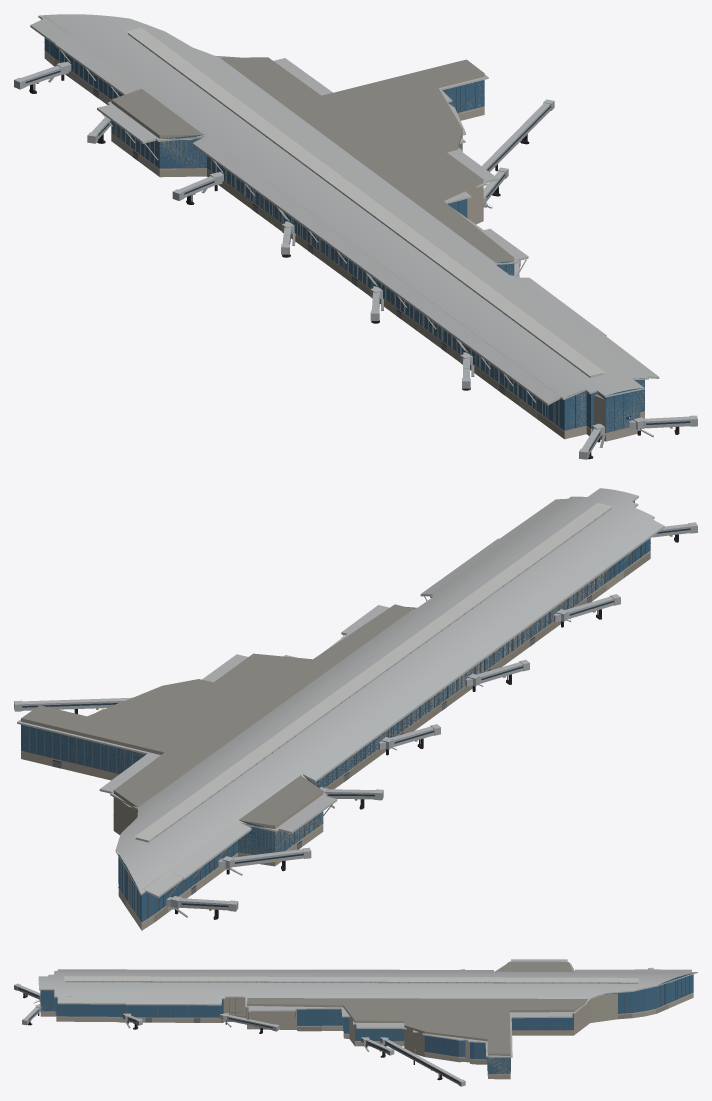
File: atl-concourse-f.glb
3 views of the same model, one above another, from view 1: azimuth 30°, elevation 25°; view 2: azimuth 150°, elevation 25°; view 3: azimuth 270°, elevation 25° (orthographic). The views are drawn at different scales.
Visible parts, largest first — view 1: lod0_bld_roof, lod1_lm_stone, lod2_lm_stone, lod0_lm_metal, lod1_bld_glass, lod2_bld_wall, lod0_bld_glass, lod1_bld_wall, lod0_bld_wall, lod0_lm_lit; view 2: lod0_bld_roof, lod1_lm_stone, lod2_lm_stone, lod0_lm_metal, lod0_bld_glass, lod2_bld_wall, lod1_bld_glass, lod0_bld_wall, lod1_bld_wall, lod0_lm_lit, lod0_lm_glass; view 3: lod0_bld_roof, lod1_lm_stone, lod2_lm_stone, lod0_lm_metal, lod0_bld_glass, lod2_bld_wall, lod1_bld_glass, lod0_bld_wall, lod0_lm_lit, lod1_bld_wall, lod0_lm_stone, lod0_lm_glass.
Boxes of the visible parts, box(x1,y1,x2,y2) form: lod0_bld_roof: box(40, 14, 646, 397); lod1_lm_stone: box(15, 14, 697, 459); lod2_lm_stone: box(45, 17, 604, 399); lod0_lm_metal: box(14, 16, 697, 459); lod1_bld_glass: box(111, 80, 644, 432); lod2_bld_wall: box(111, 73, 644, 441); lod0_bld_glass: box(44, 38, 644, 430); lod1_bld_wall: box(159, 169, 637, 441); lod0_bld_wall: box(44, 52, 644, 439); lod0_lm_lit: box(128, 33, 590, 377); lod0_bld_roof: box(18, 488, 653, 892); lod1_lm_stone: box(14, 488, 697, 923); lod2_lm_stone: box(21, 604, 412, 889); lod0_lm_metal: box(14, 503, 697, 922); lod0_bld_glass: box(21, 538, 650, 921); lod2_bld_wall: box(21, 502, 634, 865); lod1_bld_glass: box(21, 501, 634, 854); lod0_bld_wall: box(21, 552, 650, 930); lod1_bld_wall: box(327, 585, 606, 789); lod0_lm_lit: box(148, 508, 610, 842); lod0_lm_glass: box(22, 528, 690, 907); lod0_bld_roof: box(38, 959, 696, 1056); lod1_lm_stone: box(14, 967, 697, 1085); lod2_lm_stone: box(247, 961, 614, 1053); lod0_lm_metal: box(14, 961, 693, 1086); lod0_bld_glass: box(40, 973, 693, 1059); lod2_bld_wall: box(41, 991, 617, 1079); lod1_bld_glass: box(41, 971, 573, 1073); lod0_bld_wall: box(40, 993, 693, 1075); lod0_lm_lit: box(65, 981, 638, 983); lod1_bld_wall: box(56, 1017, 573, 1079); lod0_lm_stone: box(38, 992, 693, 1074); lod0_lm_glass: box(17, 988, 458, 1082).
Bounding box in the file's own units: 173 × 21.71 × 434.
